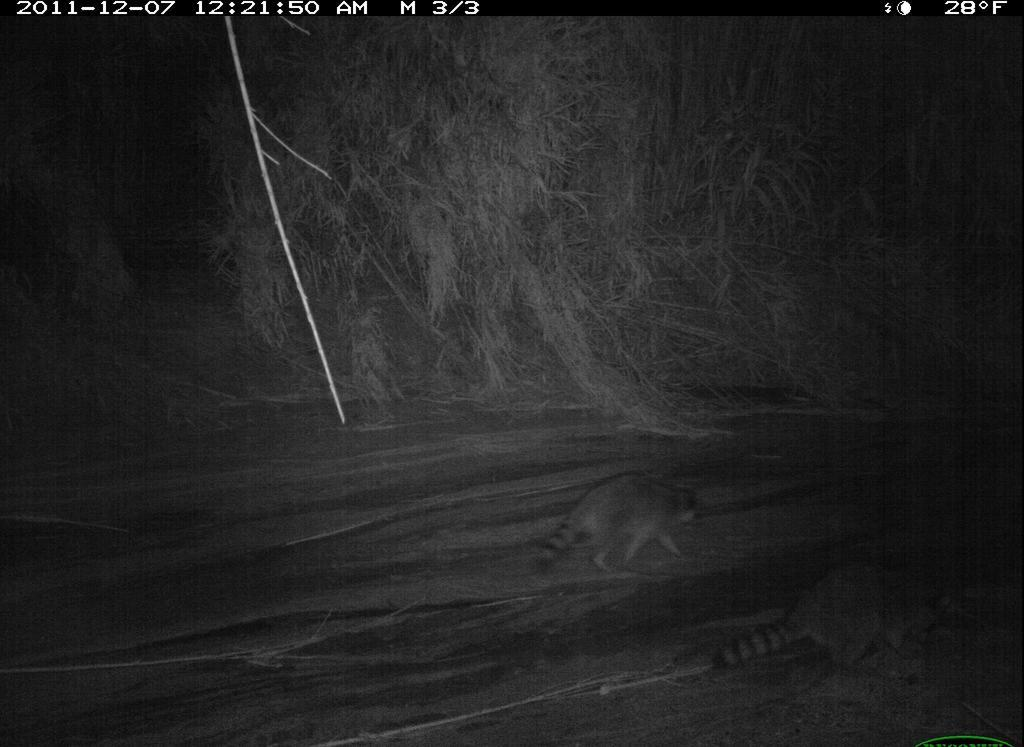raccoon: (705, 550, 984, 683), (538, 469, 703, 575)
